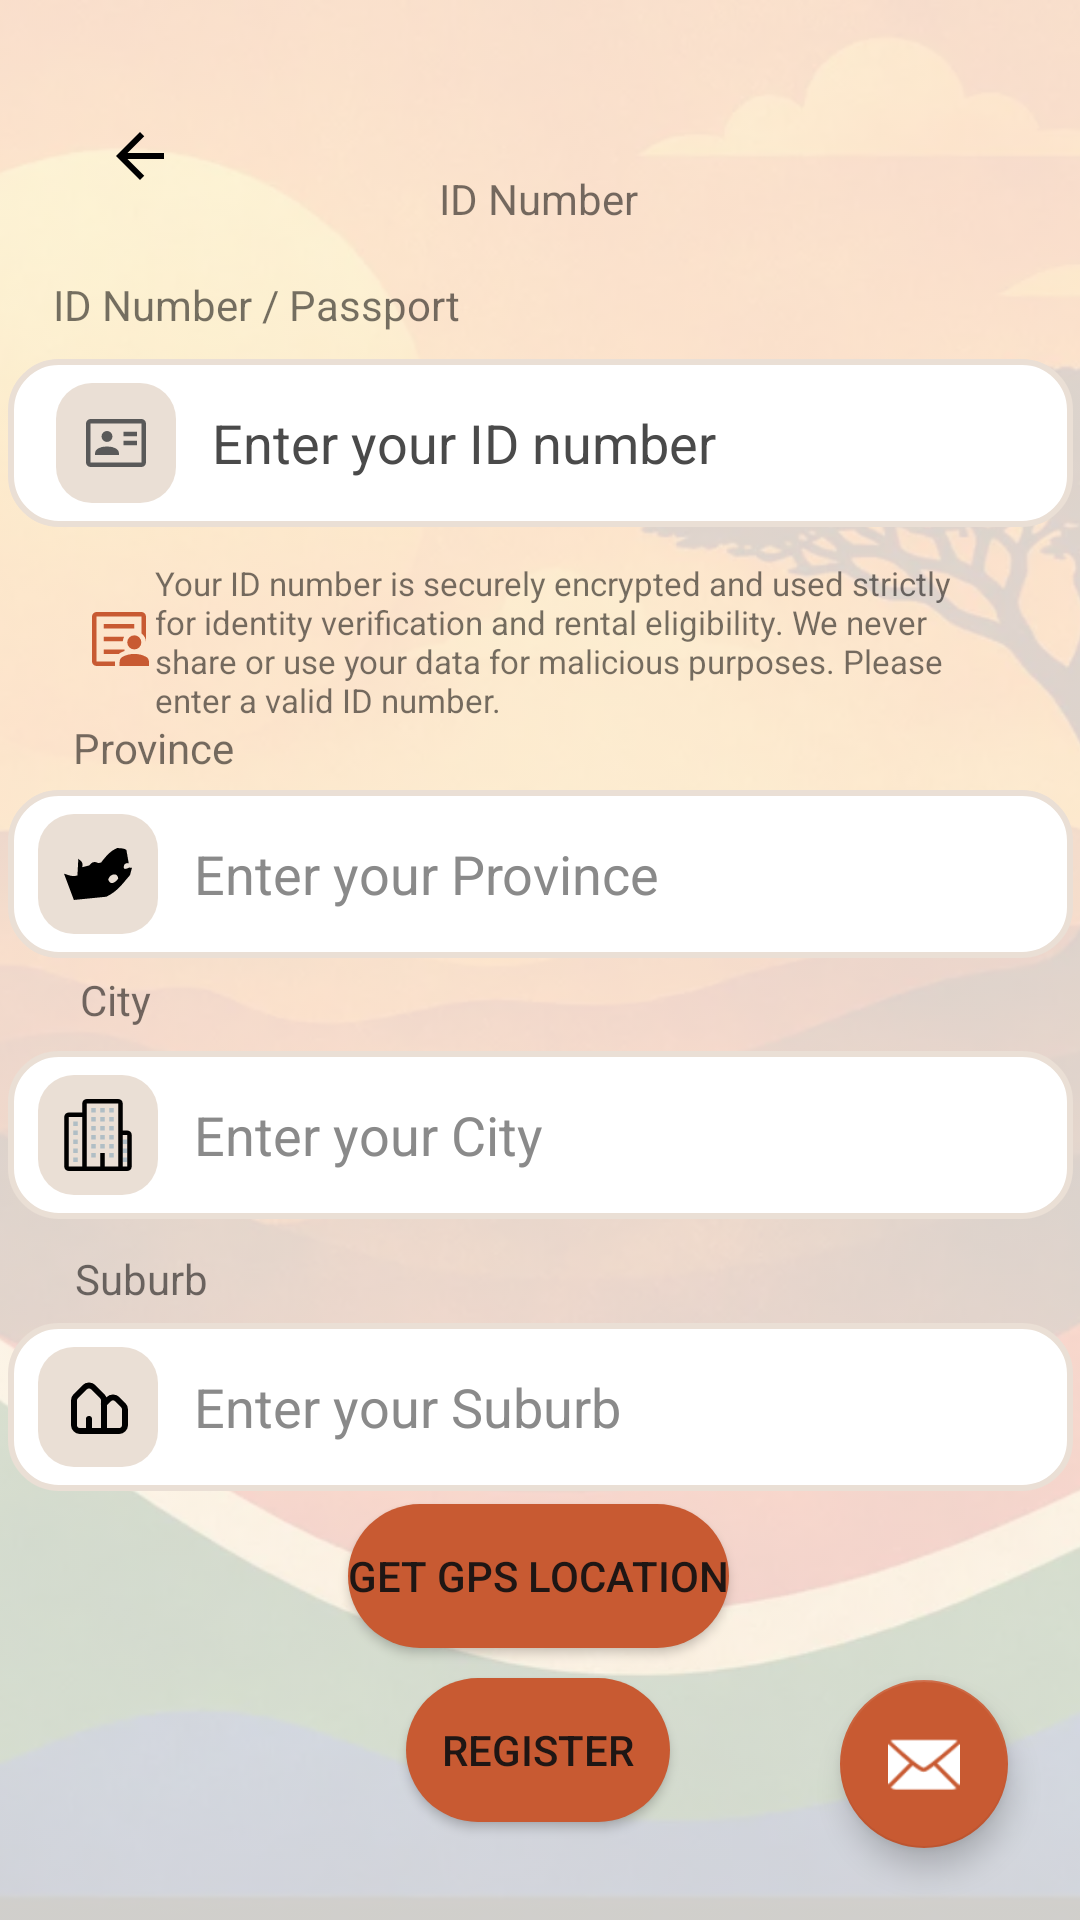

Icon bounding boxes for this 1080 × 1920 phone screenshot, format rect(x1, y1, x2, y2):
Chat with us: rect(840, 1680, 1008, 1848)
